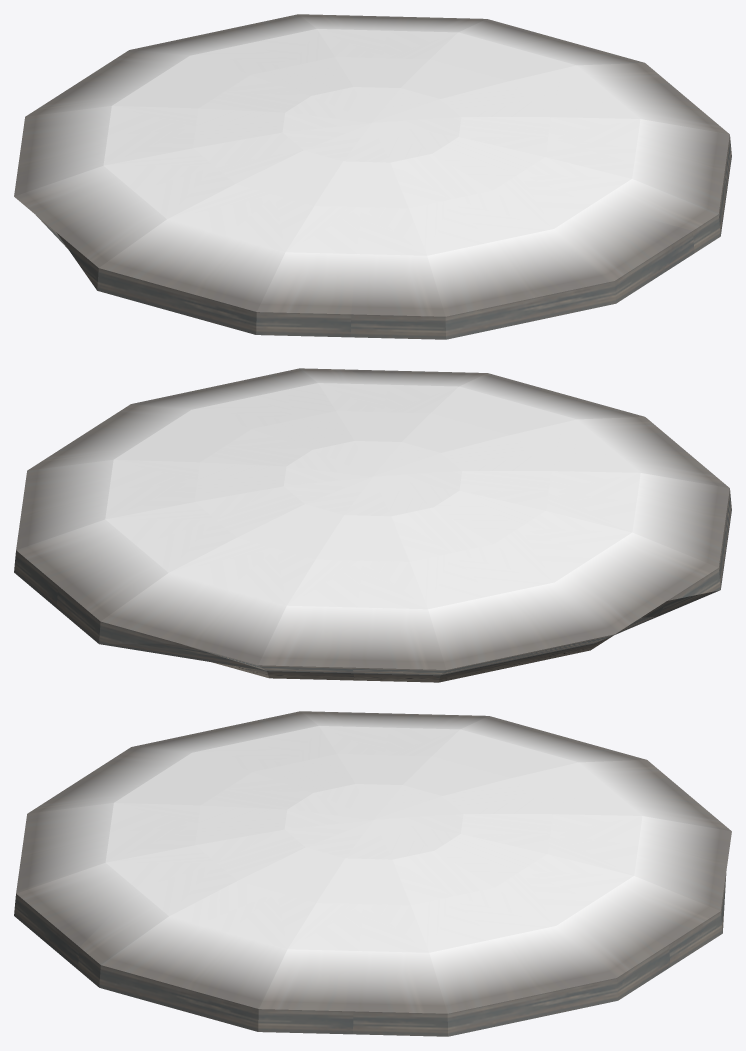
3 views of the same model, one above another, from view 1: azimuth 30°, elevation 25°; view 2: azimuth 150°, elevation 25°; view 3: azimuth 270°, elevation 25° (orthographic).
Parts seen in each view (by area): view 1: mesh00; view 2: mesh00; view 3: mesh00.
Part boxes in pixels (x1=…): mesh00: x1=14, y1=14, x2=731, y2=339; mesh00: x1=14, y1=368, x2=731, y2=682; mesh00: x1=14, y1=711, x2=731, y2=1036.
Bounding box in the file's own units: 97395 × 16314 × 97118.
